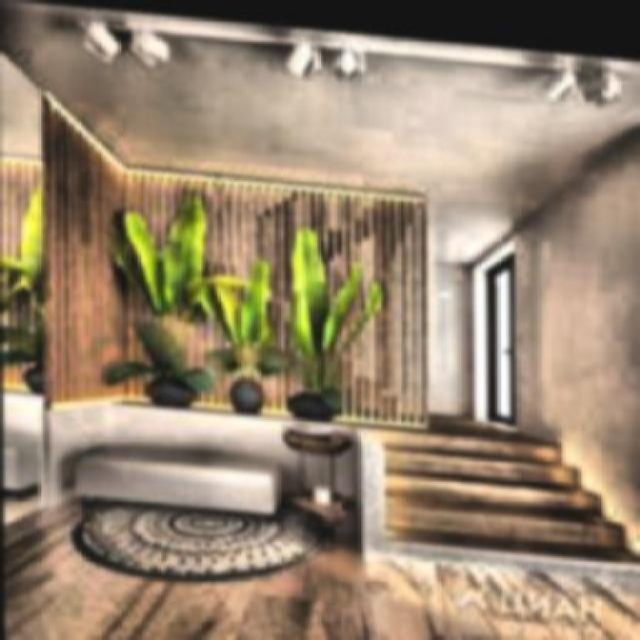stair: (345, 386, 639, 586)
